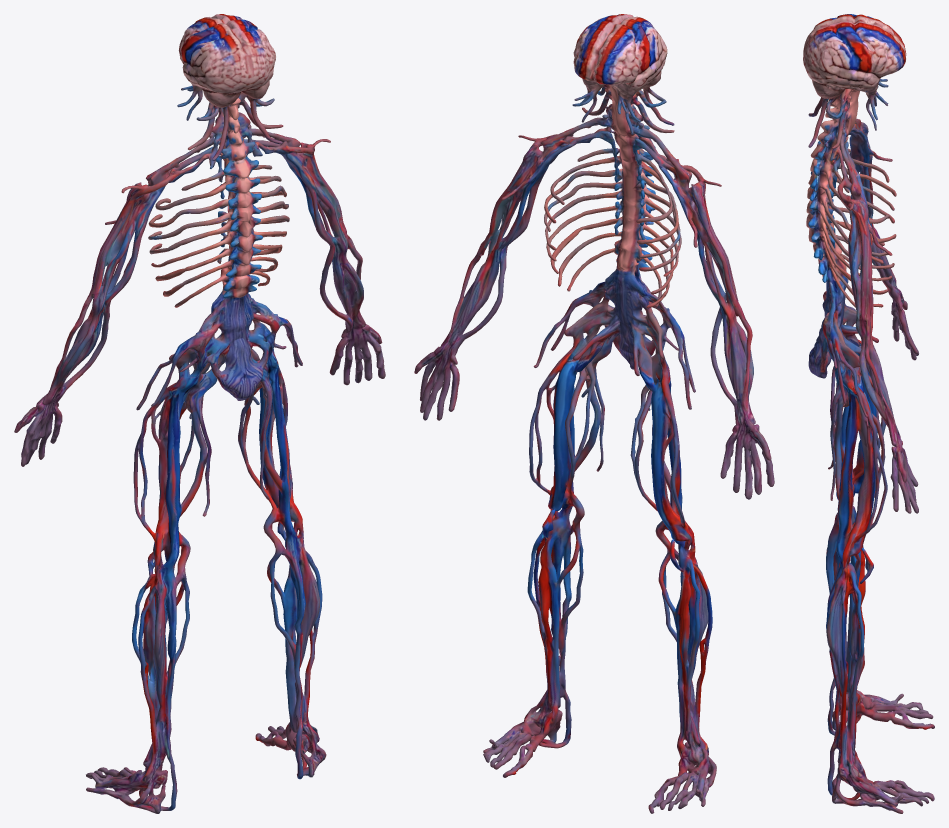
Rendered from nerves-md.glb.
3 renders of one model, left to right at view 1: azimuth 30°, elevation 25°; view 2: azimuth 150°, elevation 25°; view 3: azimuth 270°, elevation 25°, orthographic. The views are drawn at different scales.
Parts seen in each view (by area): view 1: tripo_node_7108c8c8-ade2-437e-b2b0-214a8b998e80; view 2: tripo_node_7108c8c8-ade2-437e-b2b0-214a8b998e80; view 3: tripo_node_7108c8c8-ade2-437e-b2b0-214a8b998e80.
Boxes of the visible parts, x1,y1,x2,y2 form: tripo_node_7108c8c8-ade2-437e-b2b0-214a8b998e80: (14, 14, 385, 813); tripo_node_7108c8c8-ade2-437e-b2b0-214a8b998e80: (414, 14, 774, 813); tripo_node_7108c8c8-ade2-437e-b2b0-214a8b998e80: (803, 14, 934, 813).
Size of the model in its own units: 0.4997 by 0.9999 by 0.1598.
Materials: 1 (1 with a texture image).
